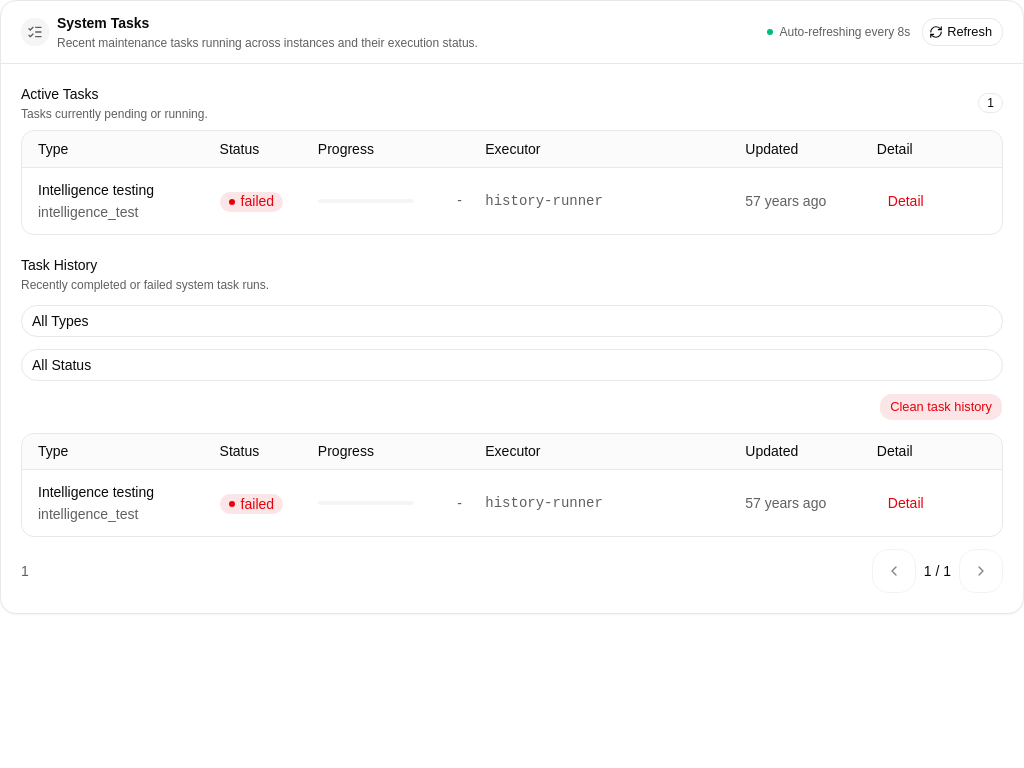
Test: opens intelligence task details with per-attempt reasons and request IDs
Click the 2nd button "Detail" at (906, 503), box [877, 489, 935, 517]
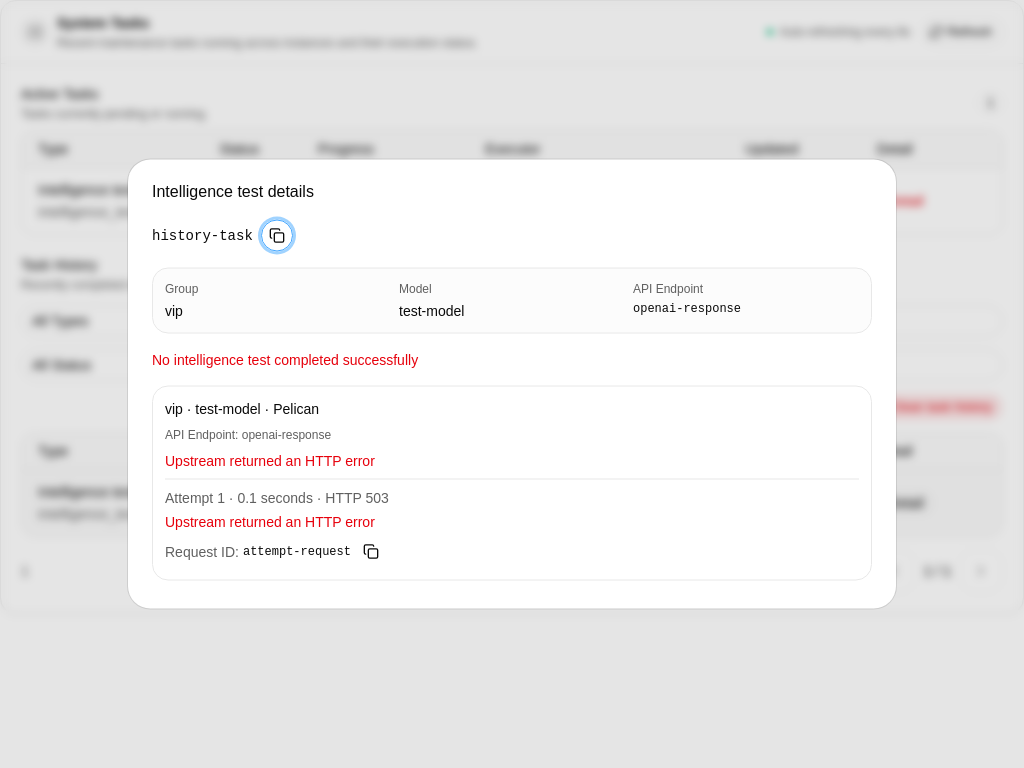
Now the text "Group" is shown, box [165, 282, 198, 296]
Now the text "vip" is shown, box [165, 302, 183, 318]
Now the text "test-model" is shown, box [399, 302, 464, 318]
Press Escape
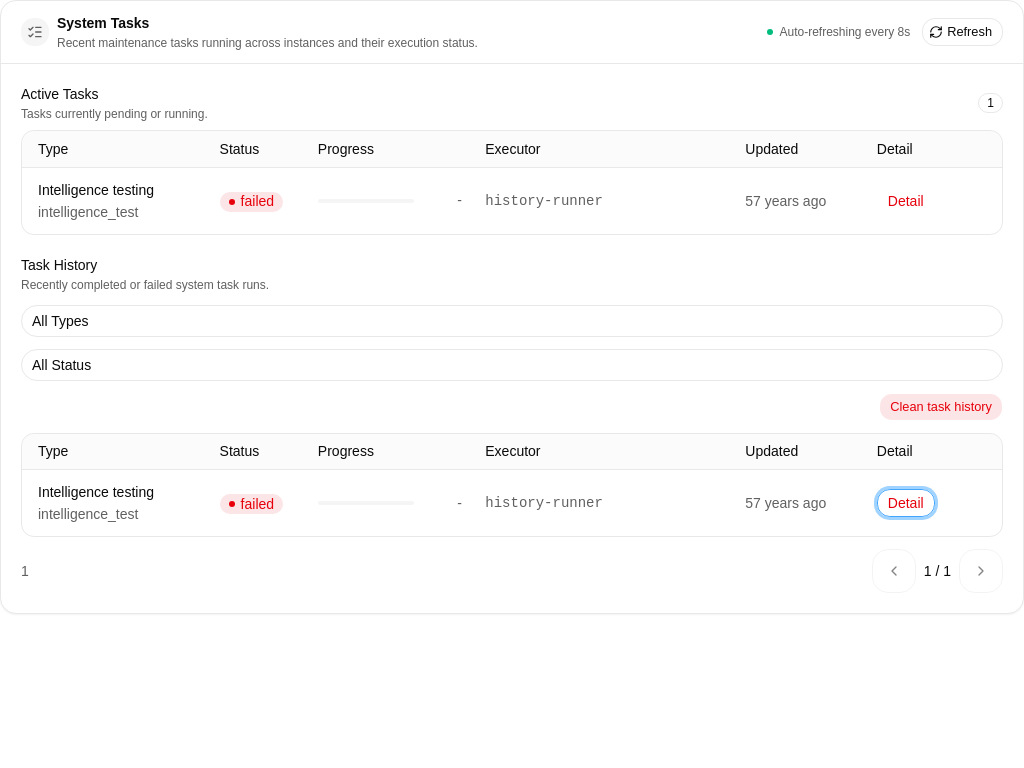
Now the dialog is gone
